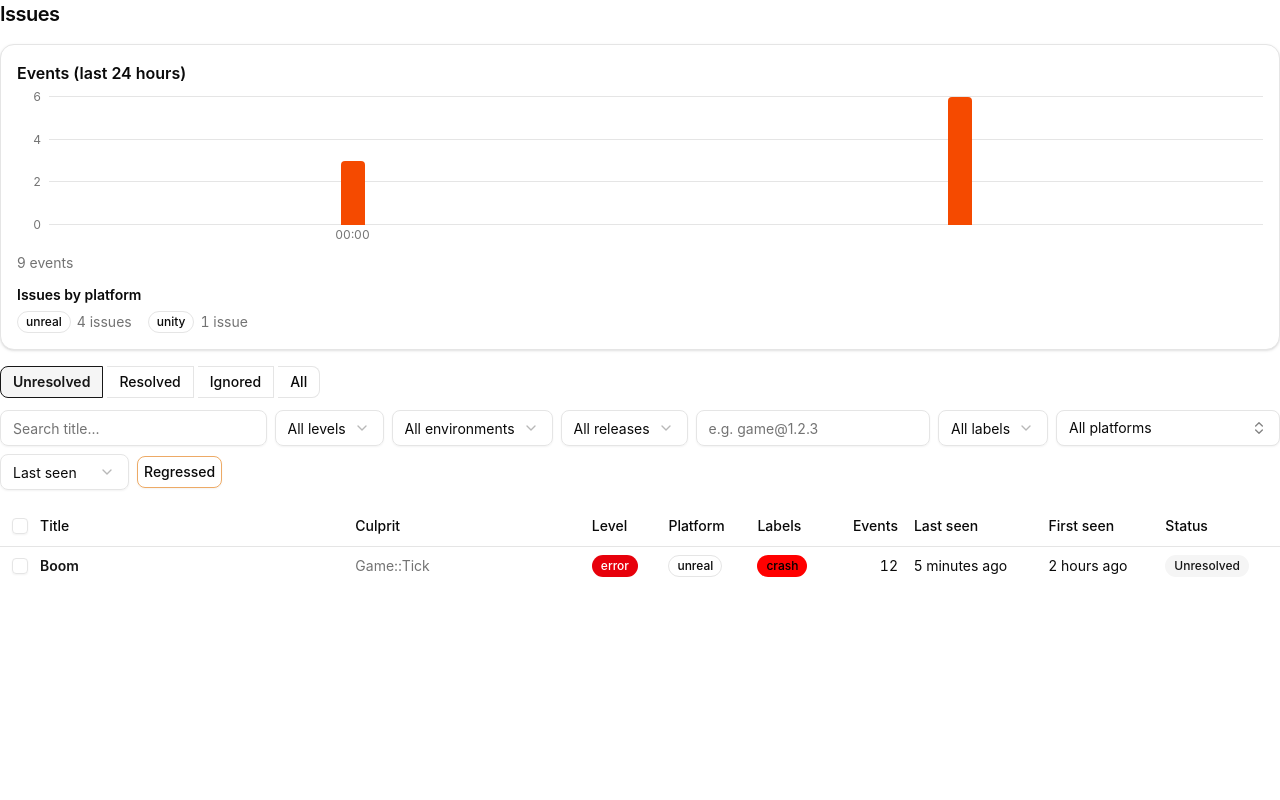
IssuesPage › does not delete when the confirmation is cancelled
Expected: the link "Boom" is shown, [40,556,79,574]
Click the checkbox named "Select issue 1" at {"x": 20, "y": 566}, box [12,558,28,574]
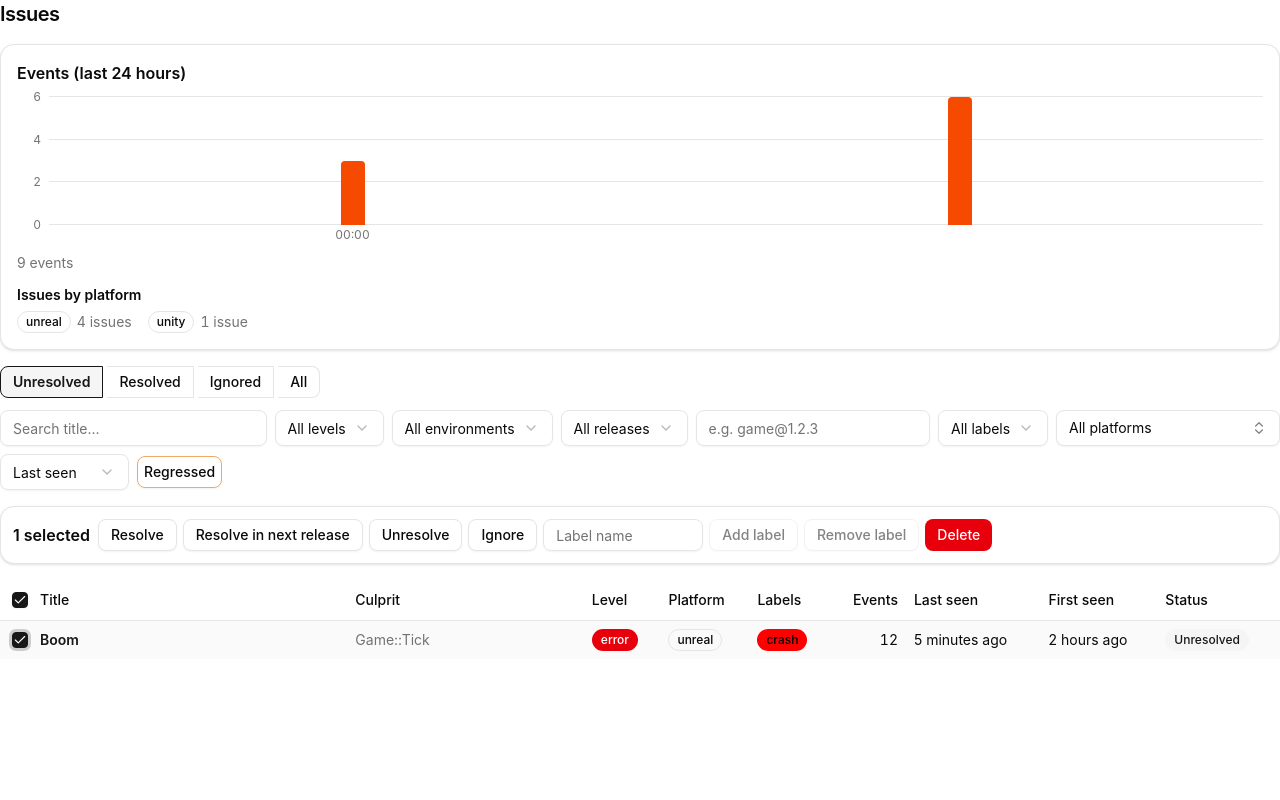
Click the button "Delete" at {"x": 959, "y": 535}, box [925,519,992,551]
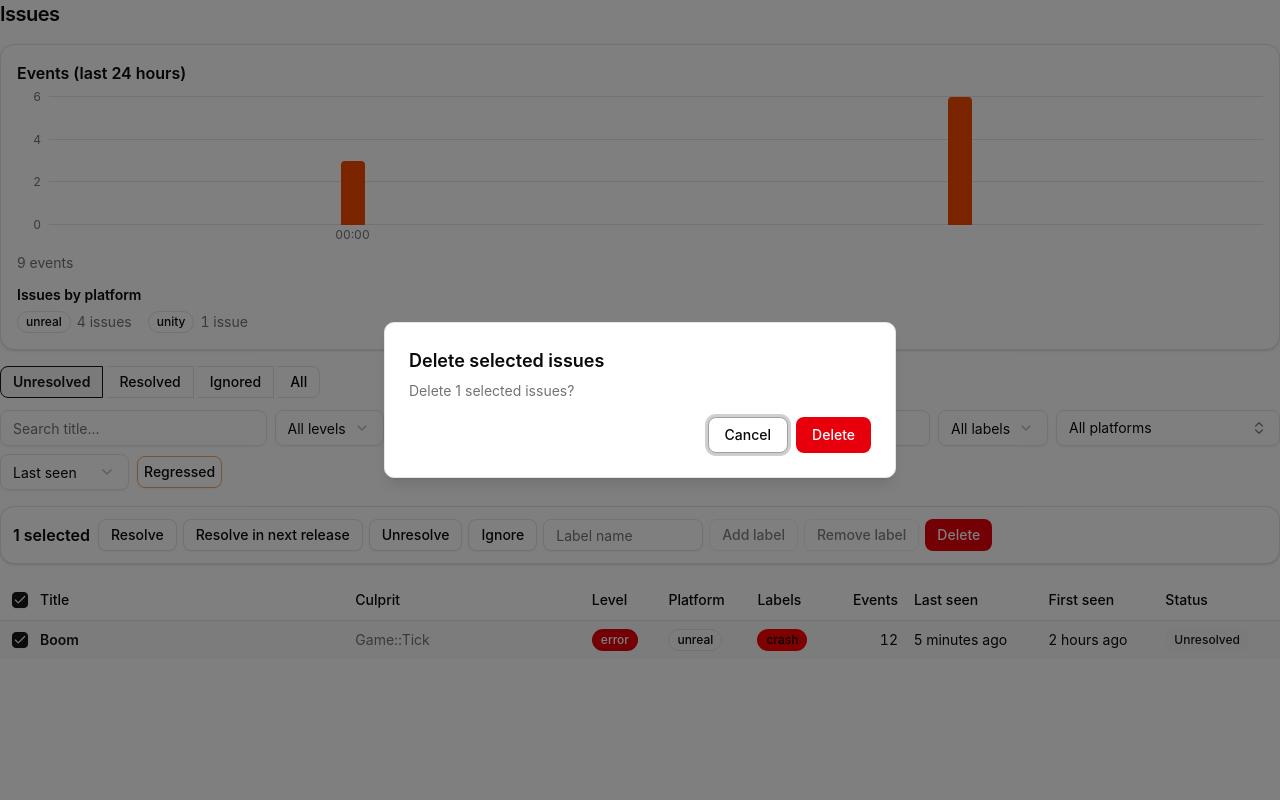
Now the heading "Delete selected issues" is shown, box [409,347,604,375]
Now the text "Delete 1 selected issues?" is shown, box [409,381,574,401]
Click the button "Cancel" at {"x": 748, "y": 435}, box [708,417,788,453]
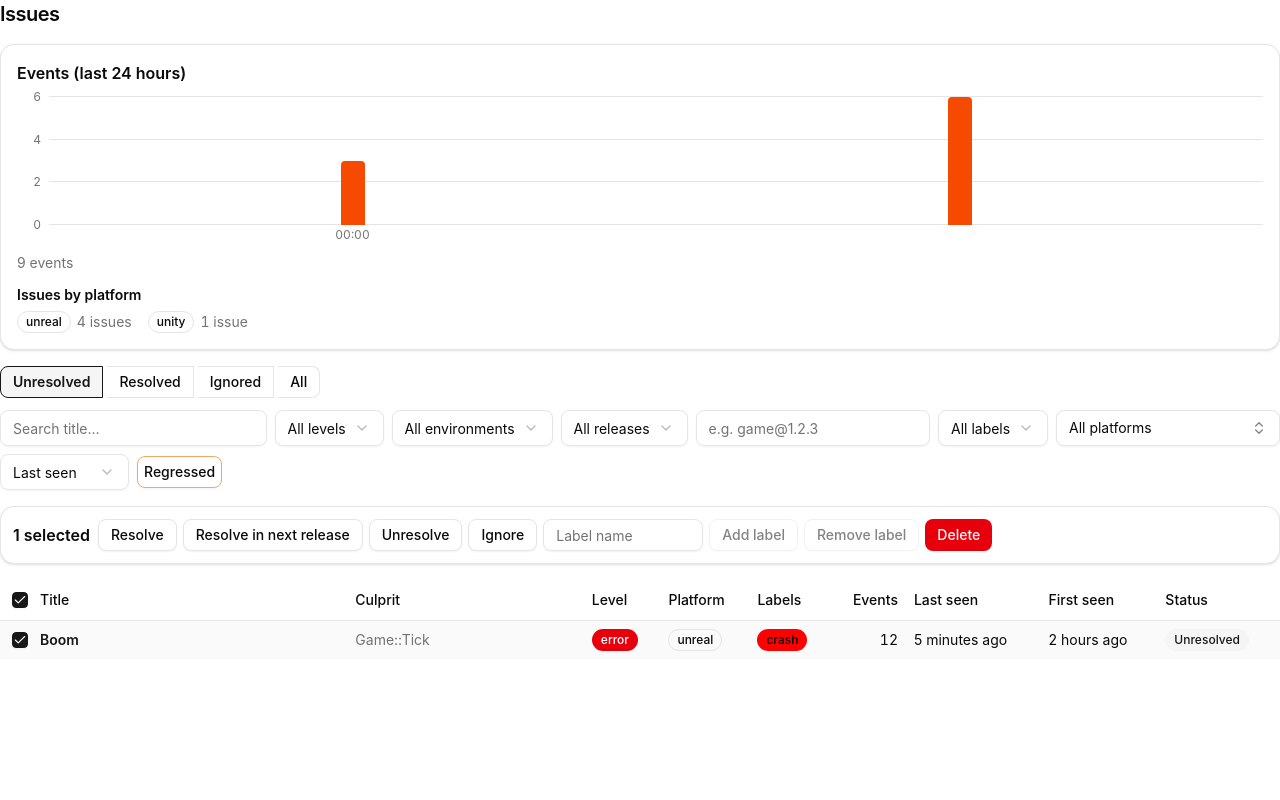
Now the text "1 selected" is shown, box [13,523,90,547]
Now the dialog is gone
